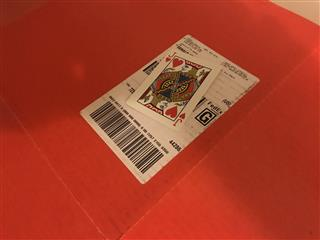JackOfHearts: (125, 48, 223, 129)
